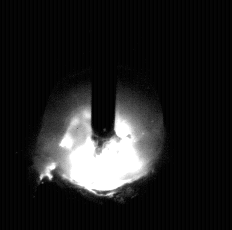arame: (92, 0, 117, 153)
poca: (34, 0, 164, 230)
